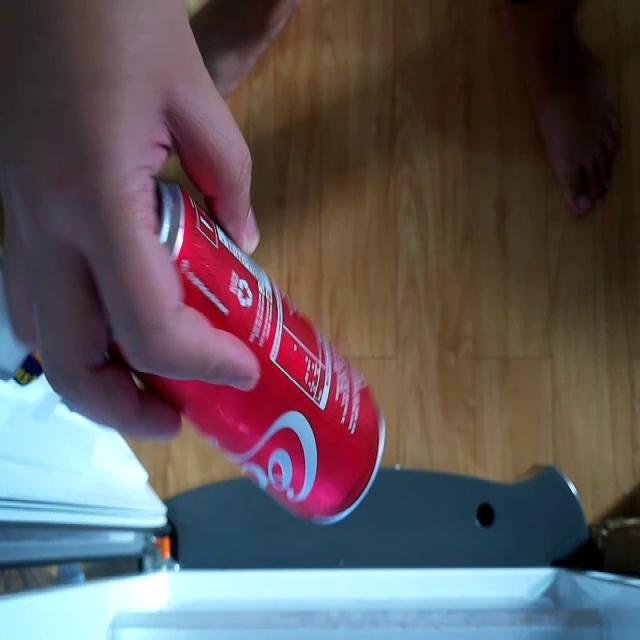coke: (111, 178, 386, 528)
